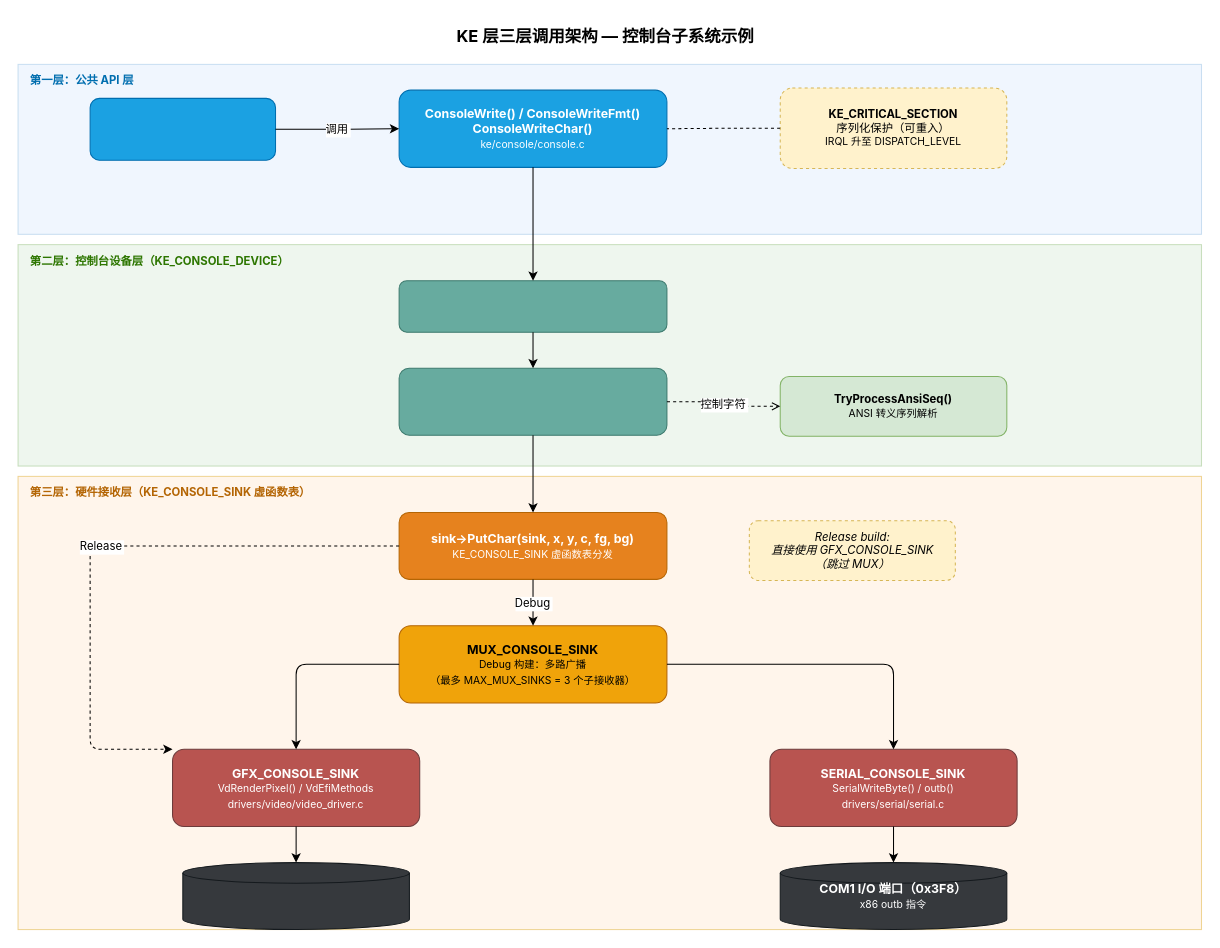
Image size: 1220x948. Some labels were removed from this diagram. The centre of each missing label's shape, as x and y in pixels:
"ConsoleWriteUnlocked()" goes at (x=532, y=306).
"EFI GOP 线性帧缓冲 MMIO_BASE_VA 映射" goes at (x=295, y=896).
"KeConDevPutChar() 光标追踪 / 自动换行 / 越界滚屏" goes at (x=532, y=401).
"KLogWriteFmt() ke/log/log.c" goes at (x=182, y=128).
